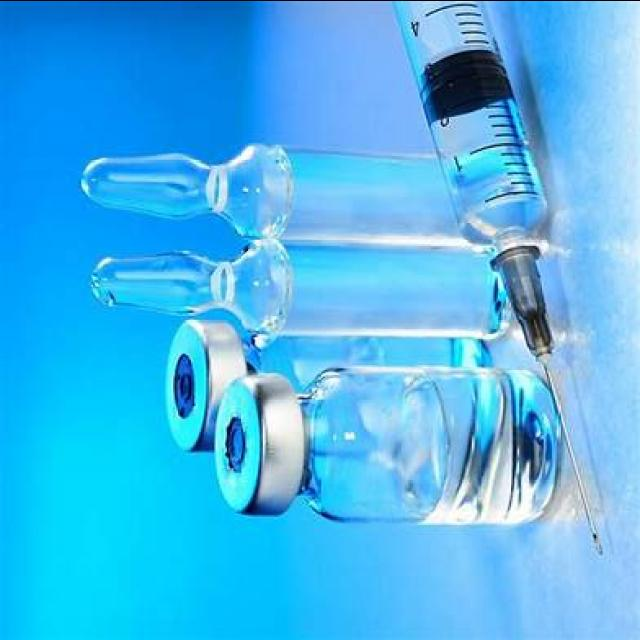vial: (214, 364, 264, 518), (158, 315, 212, 449)
